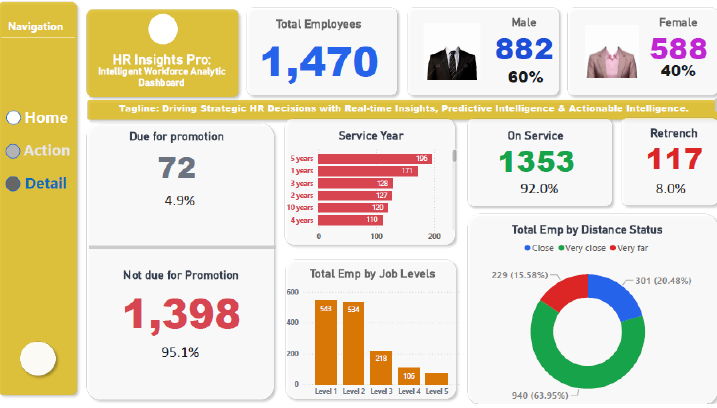

This screenshot's page, from the dashboard's own definition file:
{"tool":"powerbi","page":{"name":"Home","canvas":[1280,720],"ordinal":0},"visuals":[{"type":"shape","box":[161.4,171.4,1118.6,51.4],"z":1000},{"type":"textbox","box":[172.9,172.9,1107.1,34.3],"z":1500},{"type":"shape","box":[5,0,155,703.3],"z":2000},{"type":"shape","box":[440,10,280,170],"z":3000},{"type":"shape","box":[720,10,283.3,170],"z":4000},{"type":"shape","box":[1000,10,280,170],"z":5000},{"type":"shape","box":[160,211.2,343.8,500],"z":6000},{"type":"shape","box":[506.2,203.8,313.8,237.5],"z":7000},{"type":"shape","box":[508,450,314,260],"z":8000},{"type":"shape","box":[825,203.8,270,170],"z":9000},{"type":"shape","box":[825,370,455,350],"z":10000},{"type":"shape","box":[1093.8,202.5,186.2,170],"z":11000},{"type":"card","title":"Total Employees","fields":{"Values":["All Measures.Total Emp"]},"box":[460,36,228,120],"z":12000},{"type":"card","title":"Male","fields":{"Values":["All Measures.Male"]},"box":[854.9,33.3,154.9,86.3],"z":13000},{"type":"card","title":"Male","fields":{"Values":["All Measures.% Male"]},"box":[858.4,96.7,155,85],"z":14000},{"type":"card","title":"Female","fields":{"Values":["All Measures.Female"]},"box":[1125,32.5,155,85],"z":15000},{"type":"card","title":"Male","fields":{"Values":["All Measures.% Female"]},"box":[1158.8,102.5,86.2,53.8],"z":16000},{"type":"image","box":[758.3,41.7,96.7,106.7],"z":17000},{"type":"image","box":[1040,28.3,91.7,133.3],"z":18000},{"type":"card","title":"Not due for Promotion","fields":{"Values":["All Measures.Not due"]},"box":[208,474,252,122],"z":19000},{"type":"card","fields":{"Values":["All Measures.% Due for promotion"]},"box":[250,288.3,161.7,131.7],"z":20000},{"type":"card","title":"Due for promotion","fields":{"Values":["All Measures.Due for promotion"]},"box":[221.2,231.2,210,105],"z":21000},{"type":"card","fields":{"Values":["All Measures.% Not due"]},"box":[246,562,172,114],"z":22000},{"type":"shape","box":[173.3,426.7,325,18.3],"z":23000},{"type":"columnChart","fields":{"Category":["HR Analytics Data.Job Levels"],"Y":["All Measures.Total Emp"]},"box":[512,470,312,236],"z":24000},{"type":"card","title":"On Service","fields":{"Values":["All Measures.On Service"]},"box":[876.2,230,155,85],"z":25000},{"type":"card","title":"Male","fields":{"Values":["All Measures.% On Service"]},"box":[901.2,307.5,116.2,52.5],"z":26000},{"type":"clusteredBarChart","title":"Service Year","fields":{"Category":["HR Analytics Data.Service year"],"Y":["All Measures.Total Emp"]},"box":[511.2,230,308.8,206.2],"z":27000},{"type":"card","title":"Retrench","fields":{"Values":["All Measures.Will be Retrenched"]},"box":[1110,225.3,170,85],"z":28000},{"type":"card","title":"Male","fields":{"Values":["All Measures.% Will Be Retrenched"]},"box":[1130,306.9,116.7,53.3],"z":29000},{"type":"donutChart","fields":{"Category":["HR Analytics Data.Distance Status"],"Y":["All Measures.Total Emp"]},"box":[806.7,393.3,473.3,326.7],"z":30000},{"type":"shape","box":[11.7,251.7,25.8,25],"z":31000},{"type":"shape","box":[27.8,197.8,25.6,25.6],"z":32000},{"type":"actionButton","box":[42.2,242.2,113.3,46.7],"z":33000},{"type":"actionButton","box":[41.1,184.4,113.3,46.7],"z":34000},{"type":"shape","box":[26.7,313.3,25.6,25.6],"z":35000},{"type":"actionButton","box":[39.6,300,114,46],"z":36000},{"type":"shape","box":[43.3,593.3,81.1,76.7],"z":37000},{"type":"shape","box":[20,64.4,127.8,12.2],"z":38000},{"type":"textbox","title":"Navigation","box":[20,38.3,118.3,26.7],"z":39000},{"type":"shape","box":[26.7,256.7,25,25],"z":40000},{"type":"shape","box":[160,12.5,282.5,170],"z":41000},{"type":"textbox","box":[160,83.3,280,95],"z":42000},{"type":"shape","box":[275.7,30,51.4,52.9],"z":43000}]}

Visuals, with their boxes on the page's 1280x720 design canvas (x1, y1, x2, y2). These are canvas units, not pixel positions in the 717x408 screenshot, which may show the page scaled, cropped or inside an application window:
shape: left=161, top=171, right=1280, bottom=223
textbox: left=173, top=173, right=1280, bottom=207
shape: left=5, top=0, right=160, bottom=703
shape: left=440, top=10, right=720, bottom=180
shape: left=720, top=10, right=1003, bottom=180
shape: left=1000, top=10, right=1280, bottom=180
shape: left=160, top=211, right=504, bottom=711
shape: left=506, top=204, right=820, bottom=441
shape: left=508, top=450, right=822, bottom=710
shape: left=825, top=204, right=1095, bottom=374
shape: left=825, top=370, right=1280, bottom=720
shape: left=1094, top=202, right=1280, bottom=372
"Total Employees" card: left=460, top=36, right=688, bottom=156
"Male" card: left=855, top=33, right=1010, bottom=120
"Male" card: left=858, top=97, right=1013, bottom=182
"Female" card: left=1125, top=32, right=1280, bottom=118
"Male" card: left=1159, top=102, right=1245, bottom=156
image: left=758, top=42, right=855, bottom=148
image: left=1040, top=28, right=1132, bottom=162
"Not due for Promotion" card: left=208, top=474, right=460, bottom=596
card - All Measures.% Due for promotion: left=250, top=288, right=412, bottom=420
"Due for promotion" card: left=221, top=231, right=431, bottom=336
card - All Measures.% Not due: left=246, top=562, right=418, bottom=676
shape: left=173, top=427, right=498, bottom=445
columnChart - HR Analytics Data.Job Levels x All Measures.Total Emp: left=512, top=470, right=824, bottom=706
"On Service" card: left=876, top=230, right=1031, bottom=315
"Male" card: left=901, top=308, right=1017, bottom=360
"Service Year" clusteredBarChart: left=511, top=230, right=820, bottom=436
"Retrench" card: left=1110, top=225, right=1280, bottom=310
"Male" card: left=1130, top=307, right=1247, bottom=360
donutChart - HR Analytics Data.Distance Status x All Measures.Total Emp: left=807, top=393, right=1280, bottom=720
shape: left=12, top=252, right=38, bottom=277
shape: left=28, top=198, right=53, bottom=223
actionButton: left=42, top=242, right=156, bottom=289
actionButton: left=41, top=184, right=154, bottom=231
shape: left=27, top=313, right=52, bottom=339
actionButton: left=40, top=300, right=154, bottom=346
shape: left=43, top=593, right=124, bottom=670
shape: left=20, top=64, right=148, bottom=77
"Navigation" textbox: left=20, top=38, right=138, bottom=65
shape: left=27, top=257, right=52, bottom=282
shape: left=160, top=12, right=442, bottom=182
textbox: left=160, top=83, right=440, bottom=178
shape: left=276, top=30, right=327, bottom=83
